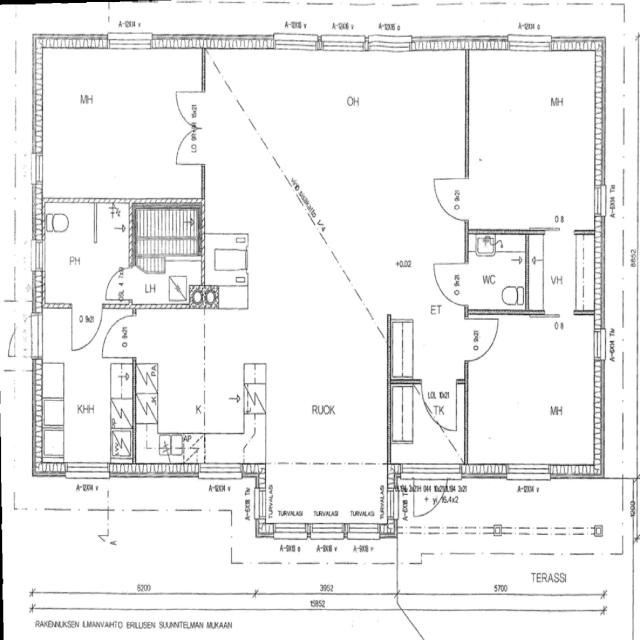door: (430, 172, 468, 221), (100, 311, 136, 362), (431, 259, 467, 307), (466, 313, 500, 363), (413, 470, 446, 520), (70, 307, 102, 356), (172, 125, 203, 167), (8, 317, 37, 361), (173, 87, 202, 130), (102, 267, 128, 303)
window: (62, 458, 111, 483), (196, 459, 244, 482), (505, 461, 552, 484), (320, 35, 367, 54), (273, 34, 319, 53), (368, 36, 414, 55), (507, 36, 552, 54), (308, 520, 348, 540), (271, 520, 311, 540), (107, 35, 152, 52), (346, 520, 382, 540), (592, 324, 609, 364), (591, 182, 608, 221), (30, 149, 46, 189), (30, 237, 46, 275), (620, 80, 629, 112)
zone: (466, 49, 603, 236), (34, 46, 196, 202), (465, 312, 603, 470), (36, 344, 134, 467), (134, 307, 208, 463), (40, 202, 128, 306), (525, 231, 598, 316), (463, 233, 528, 314), (134, 204, 203, 268)
